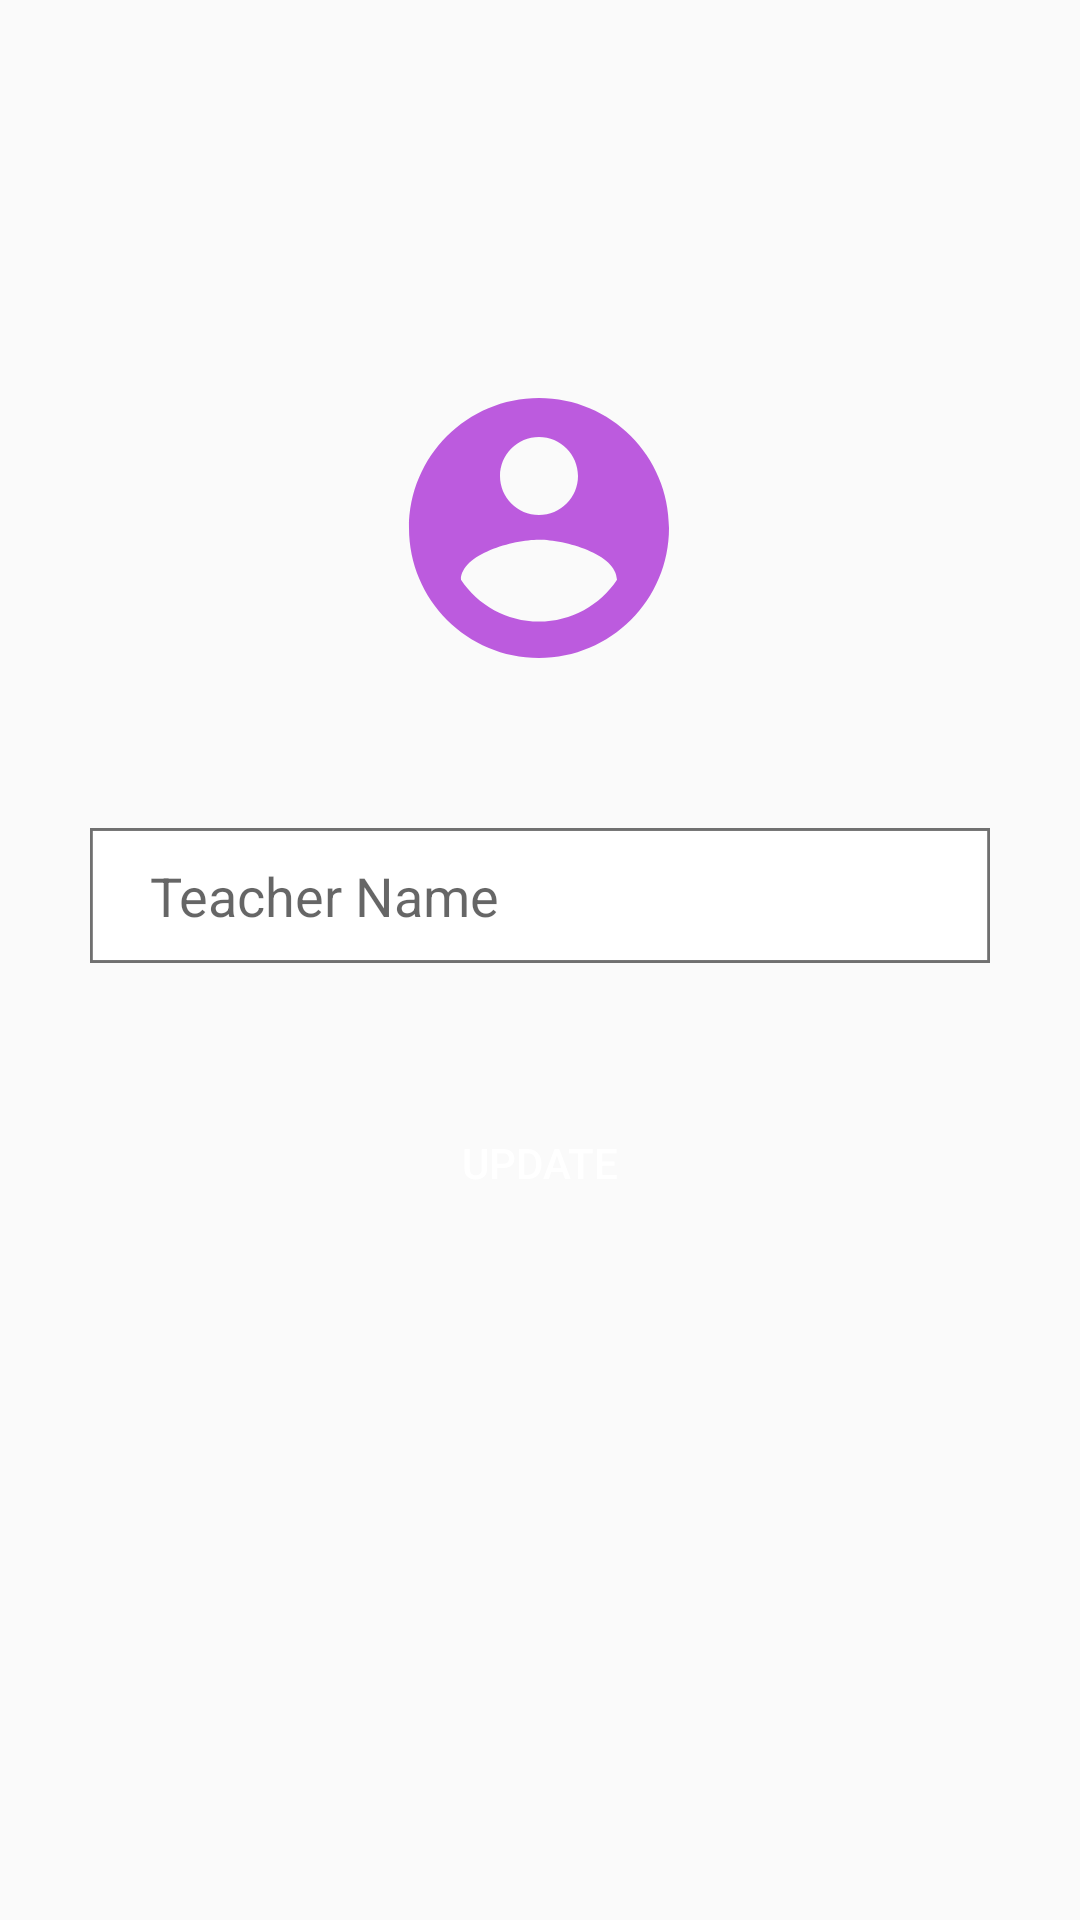

Point at icon controls on the screen. Image size 1080 × 1920, points as (x,y).
Username: (539,528)
